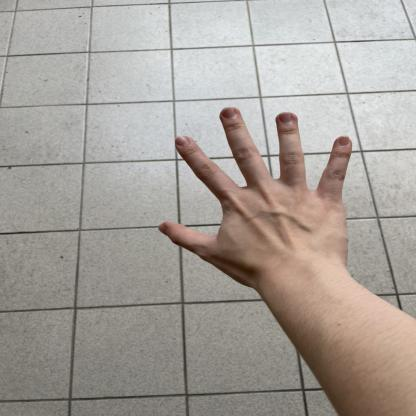bare_hand: (143, 94, 367, 298)
